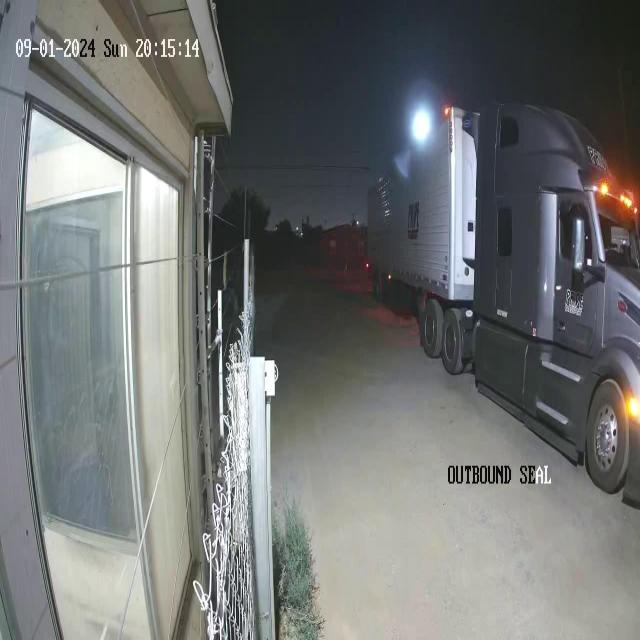CONTAINER: (367, 98, 481, 299)
